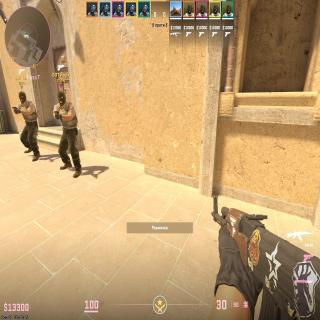T-Body: (55, 91, 82, 179), (16, 91, 39, 162)
T-Head: (57, 90, 66, 105), (18, 91, 26, 103)
